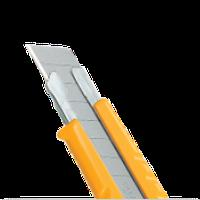knife: (15, 32, 146, 195)
